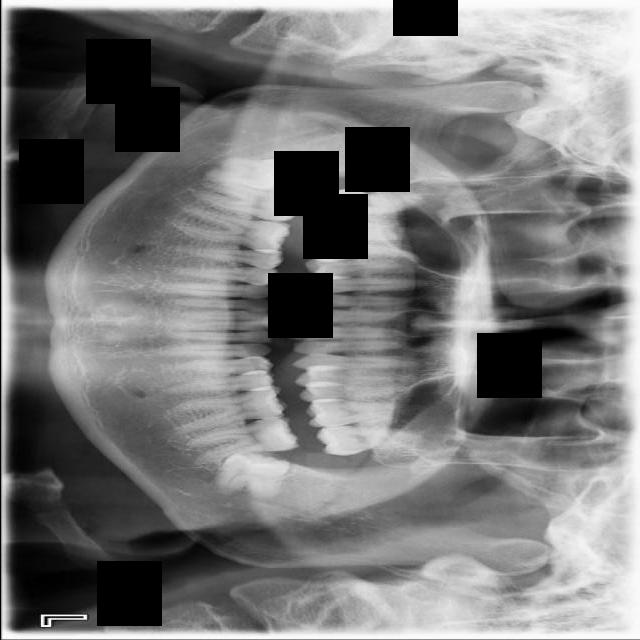73: (58, 616, 72, 622)
BioHorizons Implant: (314, 424, 424, 461)
Biomet 3i Implant: (212, 447, 291, 502)
Blue Sky Bio Implant: (185, 414, 299, 463)
Caries: (315, 187, 431, 219)
Implant: (189, 171, 305, 226)
Keystone Dental Implant: (203, 156, 296, 194)
